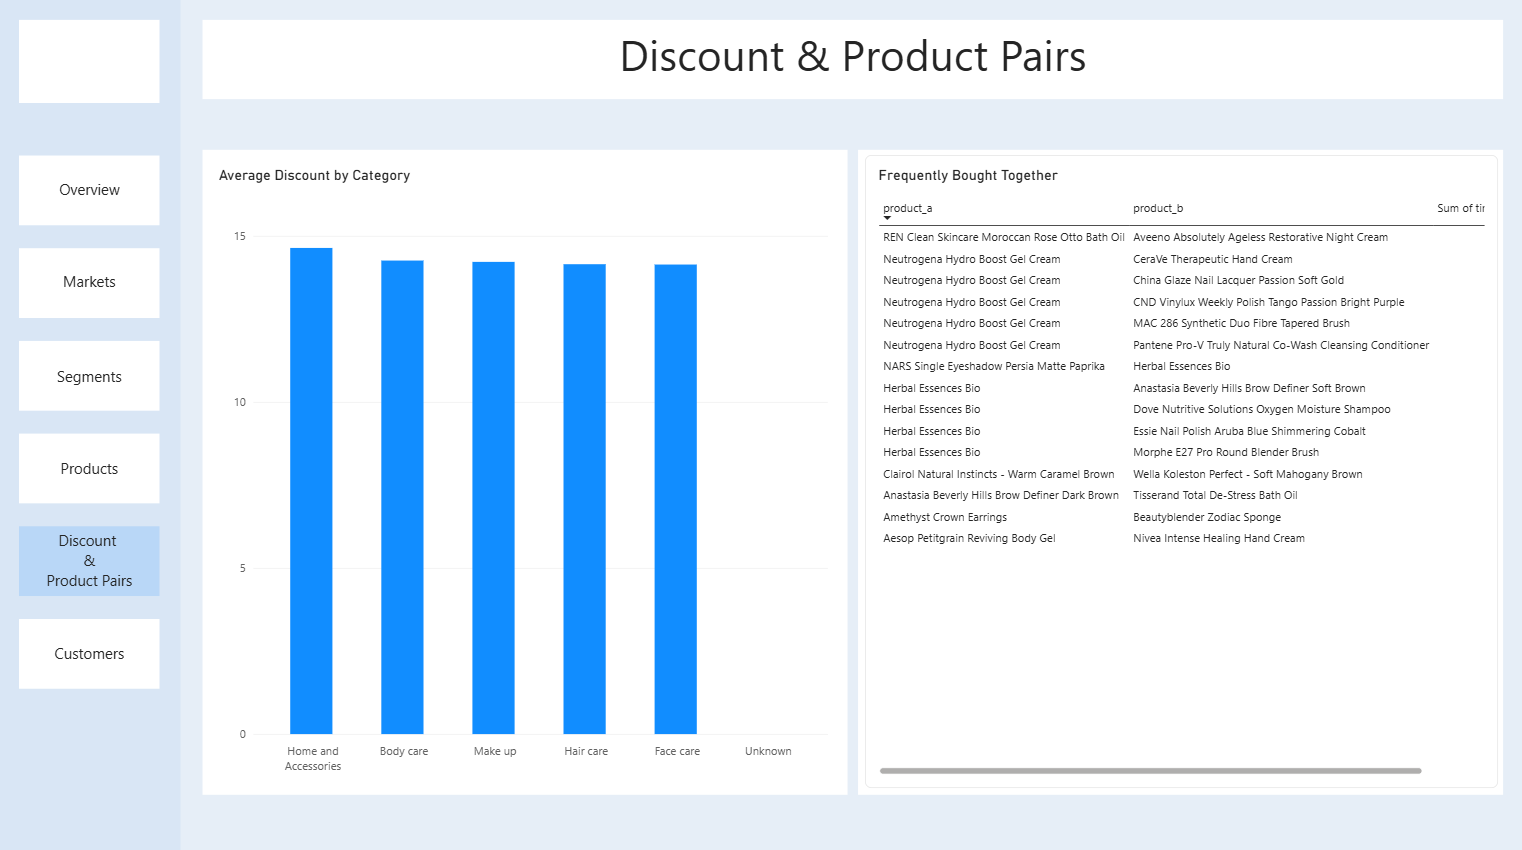

The dashboard page shown, as its layout file describes it:
{"tool":"powerbi","page":{"name":"Discount & Product Pairs","canvas":[1920,1080],"ordinal":4},"visuals":[{"type":"tableEx","title":"Frequently Bought Together","fields":{"Values":["q15_market_basket_products.product_a","q15_market_basket_products.product_b","Sum(q15_market_basket_products.times_together)"]},"box":[1088.5,201.1,795.2,795.2],"z":0},{"type":"clusteredColumnChart","title":"Average Discount by Category","fields":{"Category":["q05_avg_discount_by_category.category"],"Y":["Sum(q05_avg_discount_by_category.avg_discount_pct)"]},"box":[261.5,201.1,796.7,795.2],"z":1000},{"type":"textbox","box":[258.6,37.1,1630,90],"z":2000},{"type":"textbox","box":[27.1,231.4,174.3,55.7],"z":3000},{"type":"textbox","box":[27.1,347.1,174.3,57.1],"z":4000},{"type":"textbox","box":[27.1,465.7,174.3,55.7],"z":5000},{"type":"textbox","box":[27.1,581.4,174.3,55.7],"z":6000},{"type":"textbox","box":[27.1,671.4,174.3,81.4],"z":7000},{"type":"textbox","box":[27.1,814.3,174.3,55.7],"z":8000},{"type":"actionButton","box":[27.1,204.3,174.3,82.9],"z":8001},{"type":"actionButton","box":[27.1,321.4,174.3,82.9],"z":8002},{"type":"actionButton","box":[27.1,438.6,174.3,82.9],"z":8003},{"type":"actionButton","box":[27.1,554.3,174.3,82.9],"z":8004},{"type":"actionButton","box":[27.1,670,174.3,82.9],"z":8005},{"type":"actionButton","box":[27.1,787.1,174.3,82.9],"z":8006}]}

Visuals, with their boxes on the page's 1920x1080 design canvas (x1, y1, x2, y2). These are canvas units, not pixel positions in the 1522x850 screenshot, which may show the page scaled, cropped or inside an application window:
"Frequently Bought Together" tableEx: 1088 201 1884 996
"Average Discount by Category" clusteredColumnChart: 262 201 1058 996
textbox: 259 37 1889 127
textbox: 27 231 201 287
textbox: 27 347 201 404
textbox: 27 466 201 521
textbox: 27 581 201 637
textbox: 27 671 201 753
textbox: 27 814 201 870
actionButton: 27 204 201 287
actionButton: 27 321 201 404
actionButton: 27 439 201 522
actionButton: 27 554 201 637
actionButton: 27 670 201 753
actionButton: 27 787 201 870
